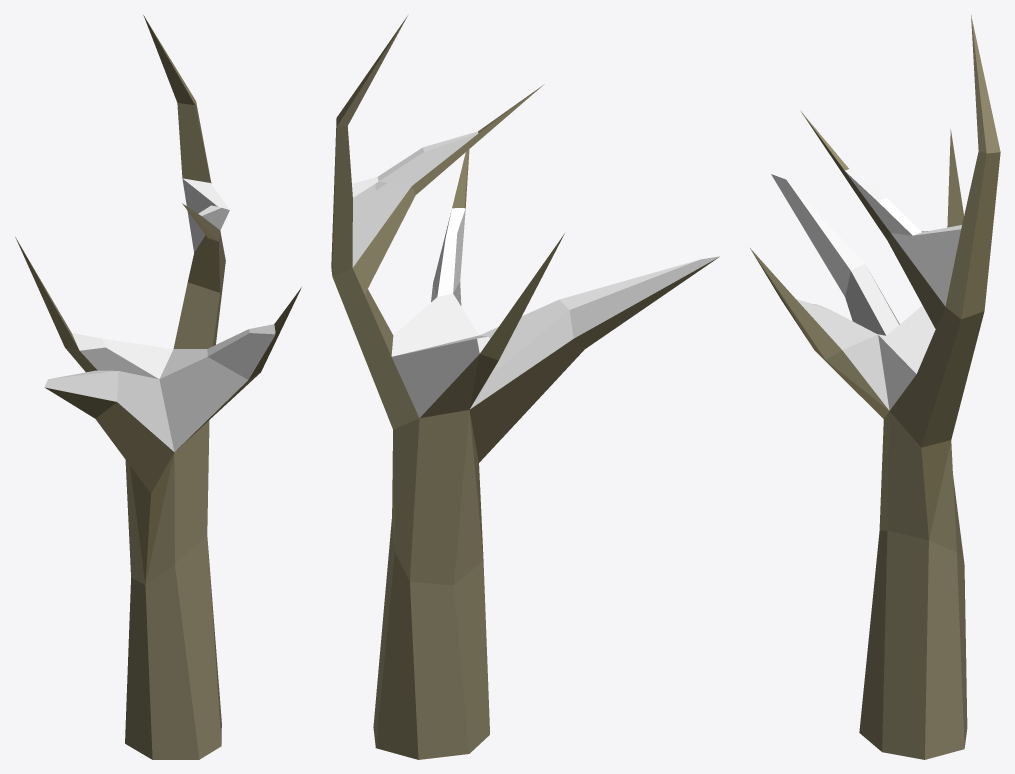
File: TreeWinter6_Alt1.fbx
The picture shows the model from 3 angles, left to right: view 1: azimuth 30°, elevation 25°; view 2: azimuth 150°, elevation 25°; view 3: azimuth 270°, elevation 25°; orthographic projection. The views are drawn at different scales.
Parts seen in each view (by area): view 1: TreeWinter6_Alt1; view 2: TreeWinter6_Alt1; view 3: TreeWinter6_Alt1.
Boxes of the visible parts, bbox=[...] form: TreeWinter6_Alt1: bbox=[15, 15, 301, 759]; TreeWinter6_Alt1: bbox=[331, 16, 719, 759]; TreeWinter6_Alt1: bbox=[750, 15, 1000, 759].
Size of the model in its own units: 0.8585 by 2.11 by 0.6677.
